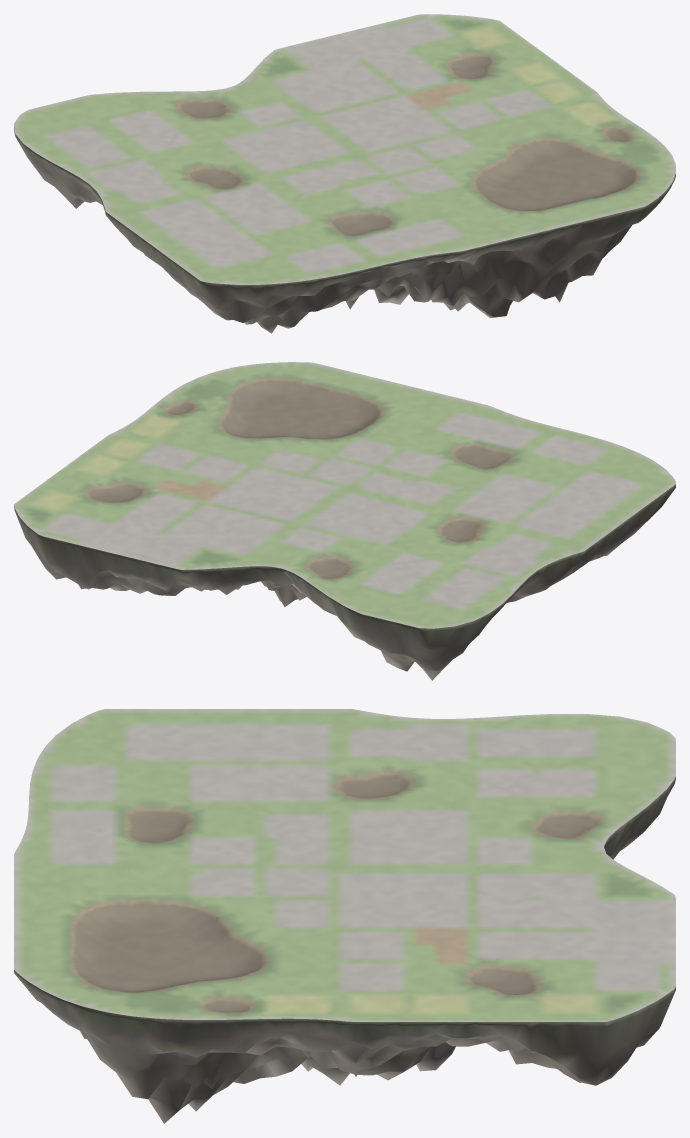
The model's file is SKY-011.rock.glb.
3 renders of one model, top to bottom at view 1: azimuth 30°, elevation 25°; view 2: azimuth 150°, elevation 25°; view 3: azimuth 270°, elevation 25°, orthographic. The views are drawn at different scales.
Parts seen in each view (by area): view 1: deck-col, rock; view 2: deck-col, rock; view 3: deck-col, rock.
Boxes of the visible parts, x1=… form: deck-col: x1=14, y1=14, x2=675, y2=284; rock: x1=14, y1=127, x2=675, y2=333; deck-col: x1=14, y1=362, x2=675, y2=628; rock: x1=14, y1=484, x2=675, y2=680; deck-col: x1=14, y1=709, x2=675, y2=1021; rock: x1=14, y1=776, x2=675, y2=1123.
Bounding box in the file's own units: 278 × 79.45 × 248.
